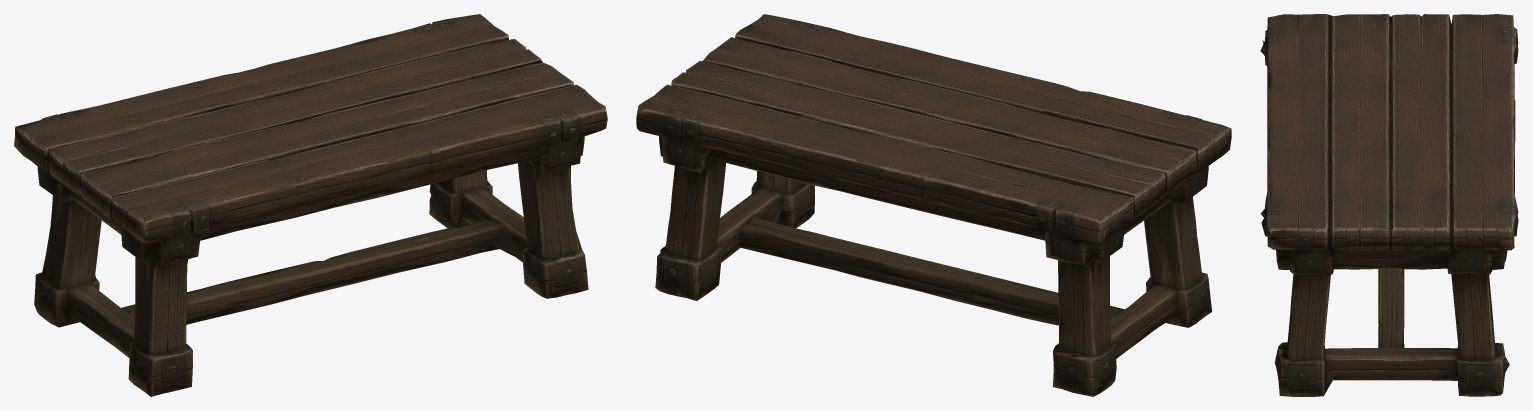
Rendered from WoodenTable.fbx.
The picture shows the model from 3 angles, left to right: view 1: azimuth 30°, elevation 25°; view 2: azimuth 150°, elevation 25°; view 3: azimuth 270°, elevation 25°; orthographic projection. The views are drawn at different scales.
Parts seen in each view (by area): view 1: Wooden Table; view 2: Wooden Table; view 3: Wooden Table.
Part boxes in pixels (x1,y1,x2,y2): Wooden Table: (14,14,607,396); Wooden Table: (636,14,1231,396); Wooden Table: (1260,14,1518,396).
Size of the model in its own units: 293 by 113 by 149.
1 material, 1 textured.
